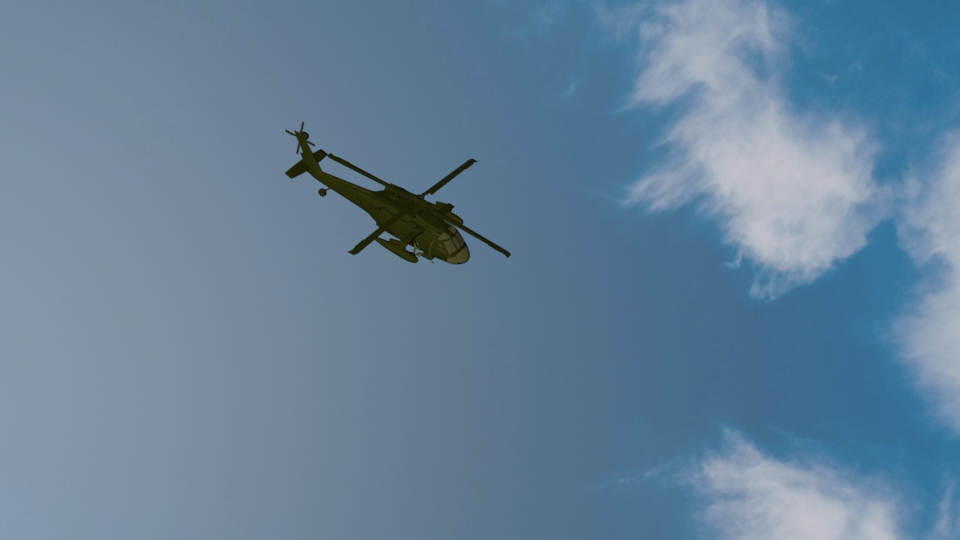heli: (282, 121, 512, 263)
